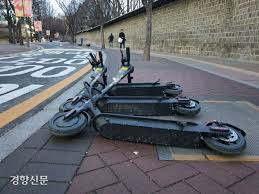fallin_kick: (50, 45, 244, 153)
